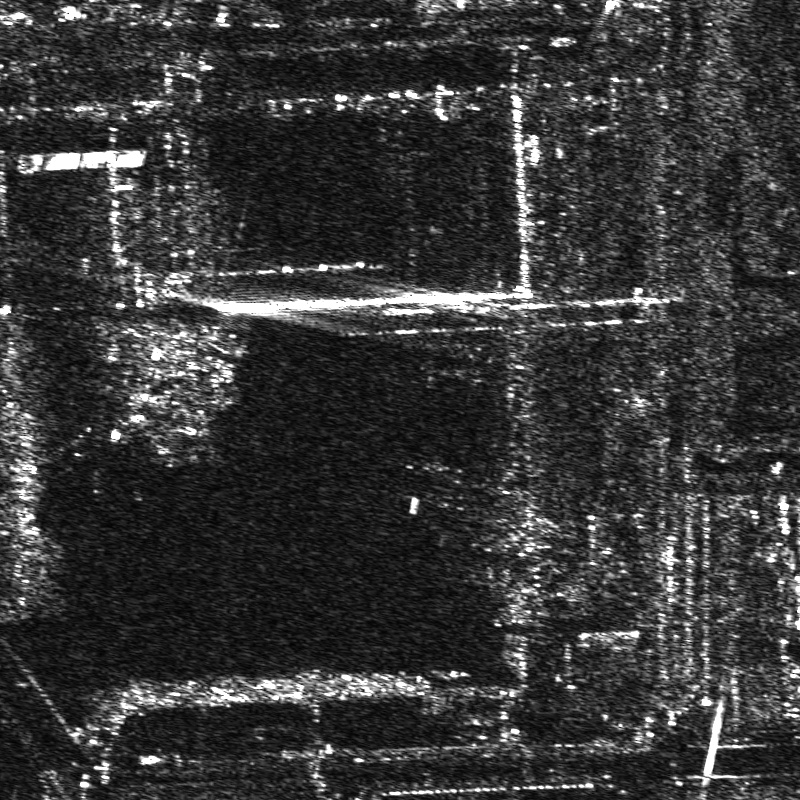A220: (405, 448, 469, 513)
